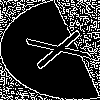X: (25, 25, 100, 70)
